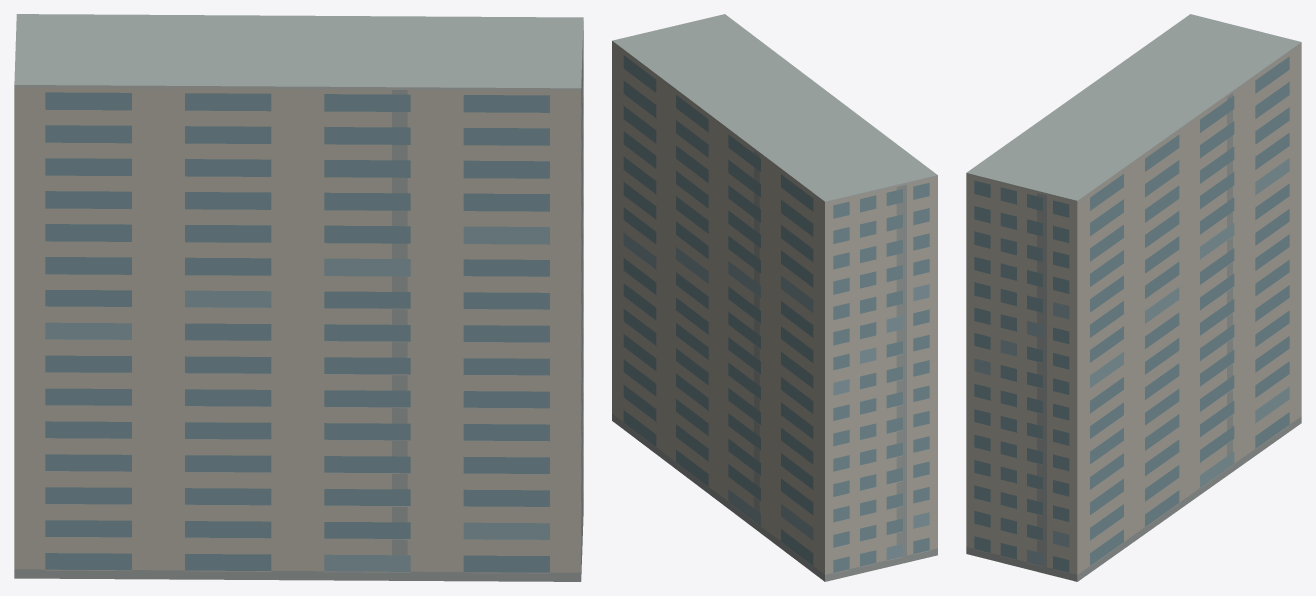
File: residential-b5bb8048-c61f-4eed-92f1-ea8737fade7b.glb
3 renders of one model, left to right at view 1: azimuth 30°, elevation 25°; view 2: azimuth 150°, elevation 25°; view 3: azimuth 270°, elevation 25°, orthographic. The views are drawn at different scales.
Visible parts, largest first — view 1: residential-b5bb8048-c61f-4eed-92f1-ea8737fade7b.tmp; view 2: residential-b5bb8048-c61f-4eed-92f1-ea8737fade7b.tmp; view 3: residential-b5bb8048-c61f-4eed-92f1-ea8737fade7b.tmp.
Part boxes in pixels (left/top/right/bottom): residential-b5bb8048-c61f-4eed-92f1-ea8737fade7b.tmp: left=14, top=14, right=583, bottom=581; residential-b5bb8048-c61f-4eed-92f1-ea8737fade7b.tmp: left=612, top=14, right=937, bottom=581; residential-b5bb8048-c61f-4eed-92f1-ea8737fade7b.tmp: left=966, top=14, right=1301, bottom=581.
Size of the model in its own units: 44.18 by 42 by 33.52.
